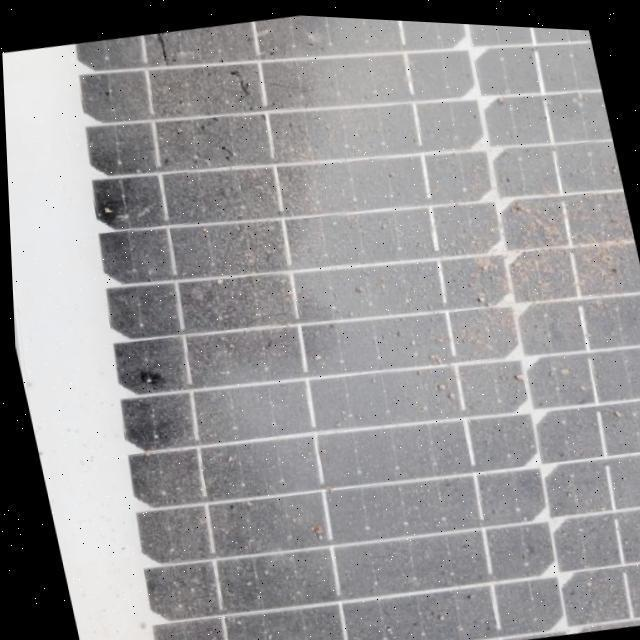Surface Contaminant: (42, 12, 640, 640)
